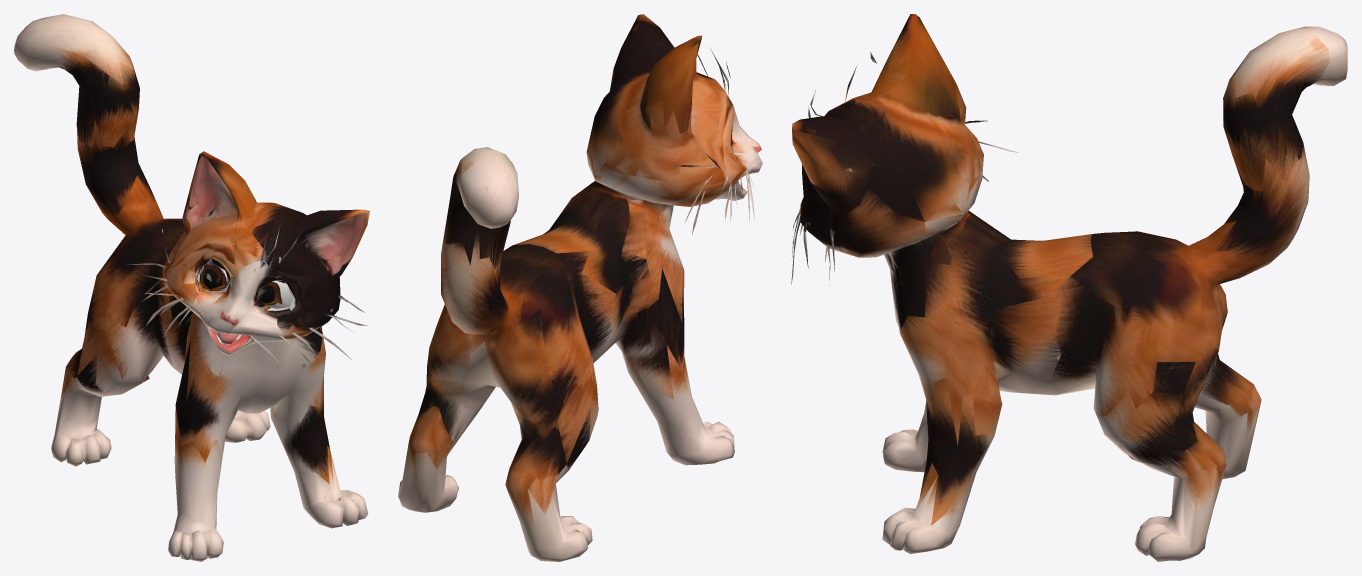
File: cat.glb
3 renders of one model, left to right at view 1: azimuth 30°, elevation 25°; view 2: azimuth 150°, elevation 25°; view 3: azimuth 270°, elevation 25°, orthographic. The views are drawn at different scales.
Visible parts, largest first — view 1: Mesh0; view 2: Mesh0; view 3: Mesh0.
Boxes of the visible parts, bbox=[...] form: Mesh0: bbox=[14, 14, 369, 561]; Mesh0: bbox=[398, 14, 762, 561]; Mesh0: bbox=[791, 14, 1347, 561].
Bounding box in the file's own units: 0.537 × 0.9055 × 1.
Materials: 1 (1 with a texture image).
